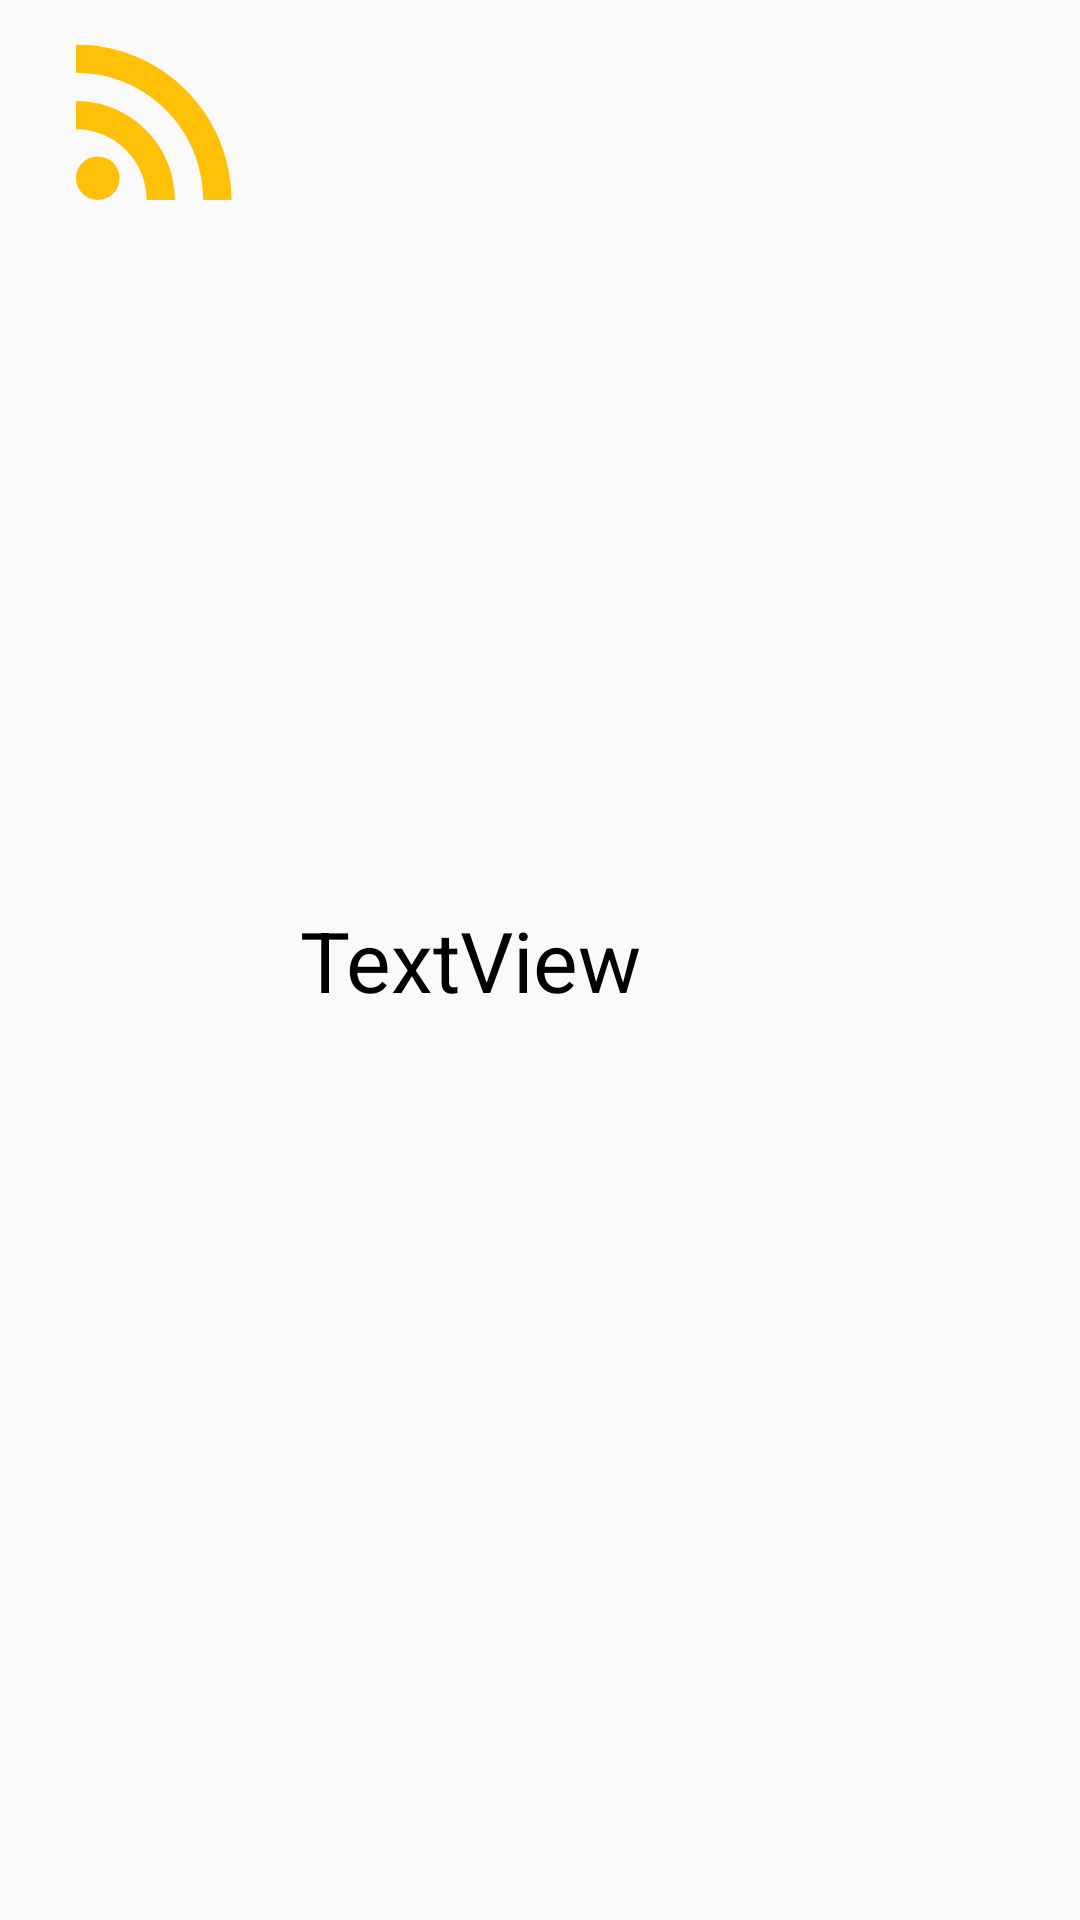

Named icons in this screenshot (1080x1920) and their centers, (x,y):
rss feed: (154,122)
